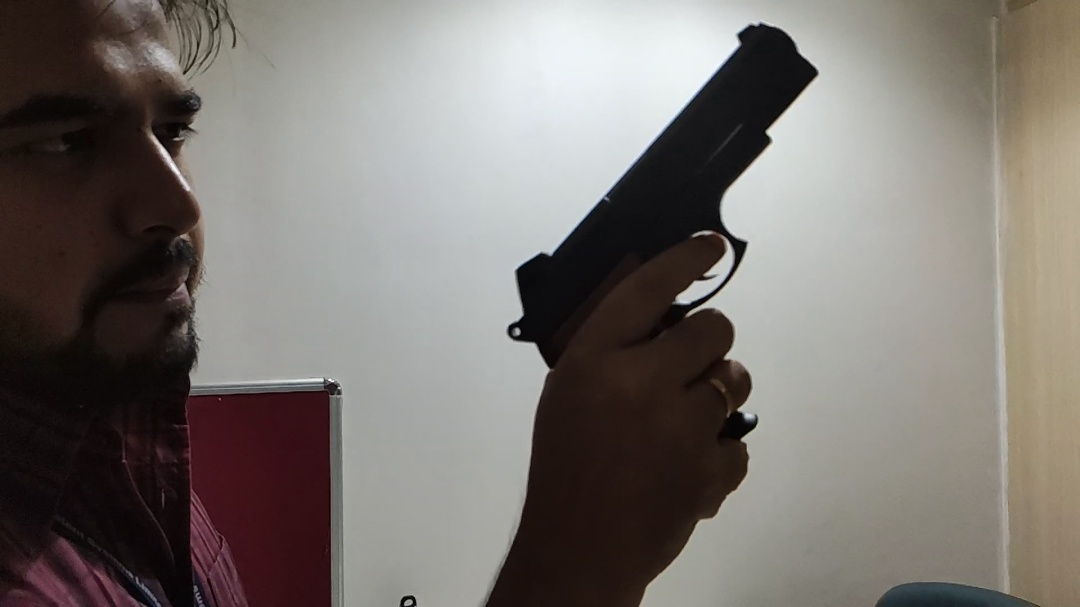gun: (503, 18, 824, 451)
